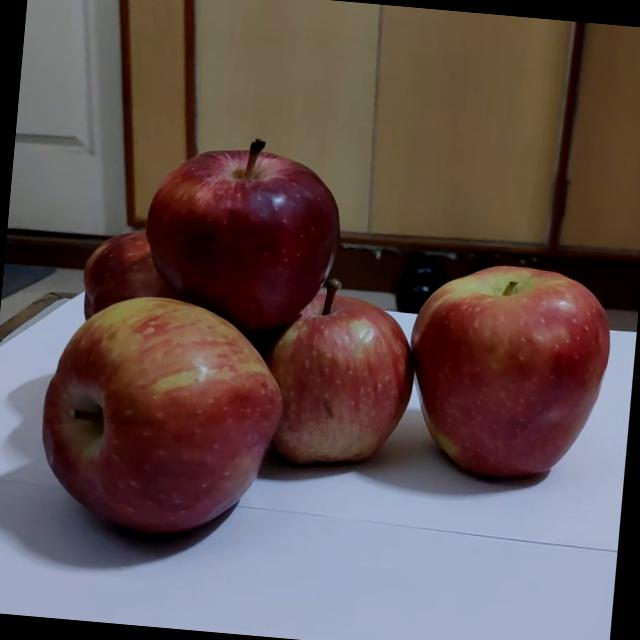apple: (34, 323, 302, 594), (382, 255, 640, 529), (130, 142, 365, 380), (239, 298, 436, 512), (50, 246, 254, 402)
